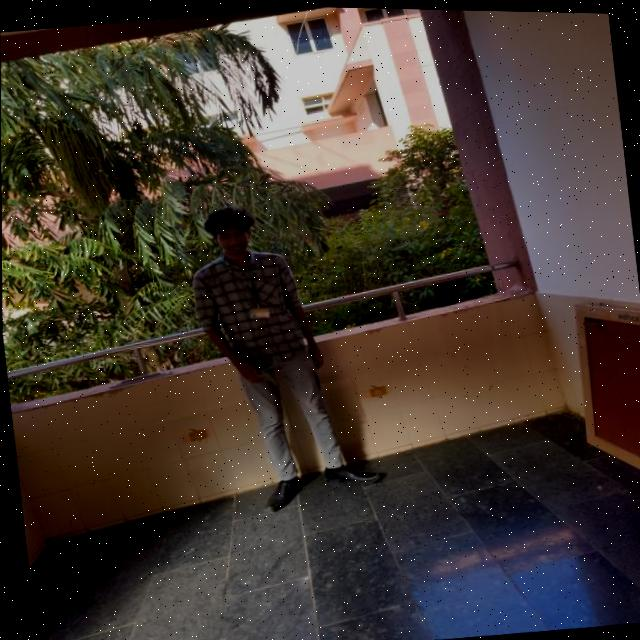id_card: (229, 258, 276, 325)
